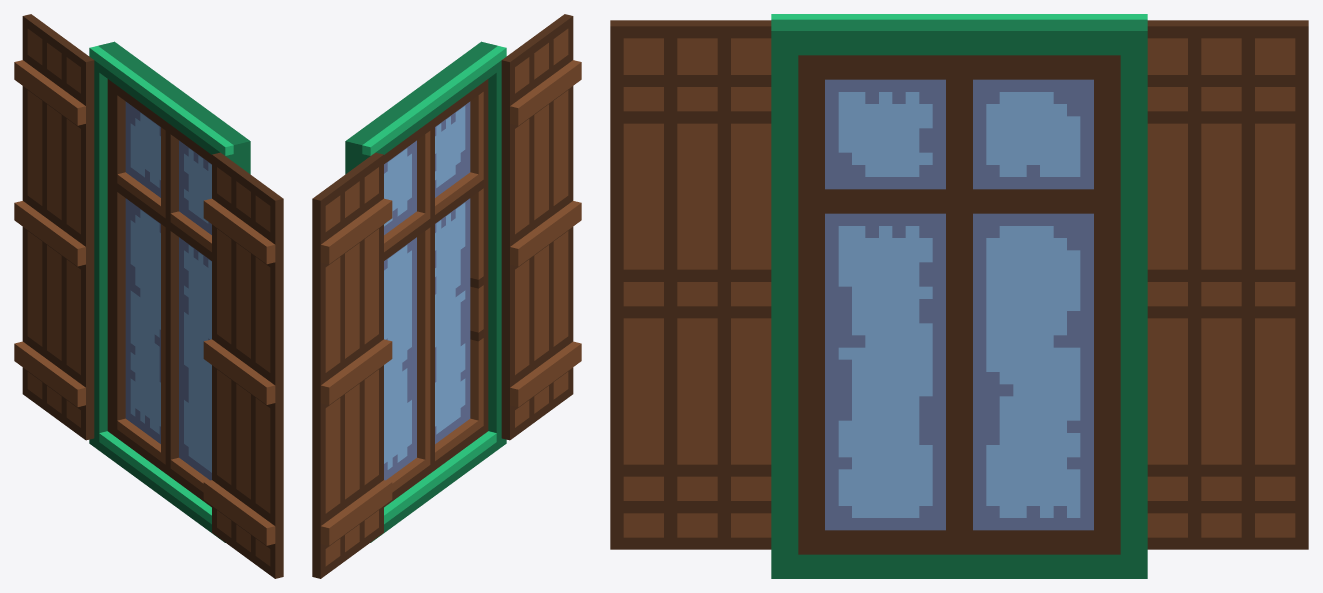
The model's file is window_textured_big_brown_green.glb.
The picture shows the model from 3 angles, left to right: view 1: azimuth 30°, elevation 25°; view 2: azimuth 150°, elevation 25°; view 3: azimuth 270°, elevation 25°; orthographic projection. The views are drawn at different scales.
Visible parts, largest first — view 1: window_textured_big_brown_green; view 2: window_textured_big_brown_green; view 3: window_textured_big_brown_green.
Boxes of the visible parts, x1=… form: window_textured_big_brown_green: x1=14, y1=14, x2=283, y2=578; window_textured_big_brown_green: x1=312, y1=14, x2=581, y2=578; window_textured_big_brown_green: x1=610, y1=14, x2=1308, y2=578.
Size of the model in its own units: 0.5 by 4.5 by 5.2.
1 material, 1 textured.
